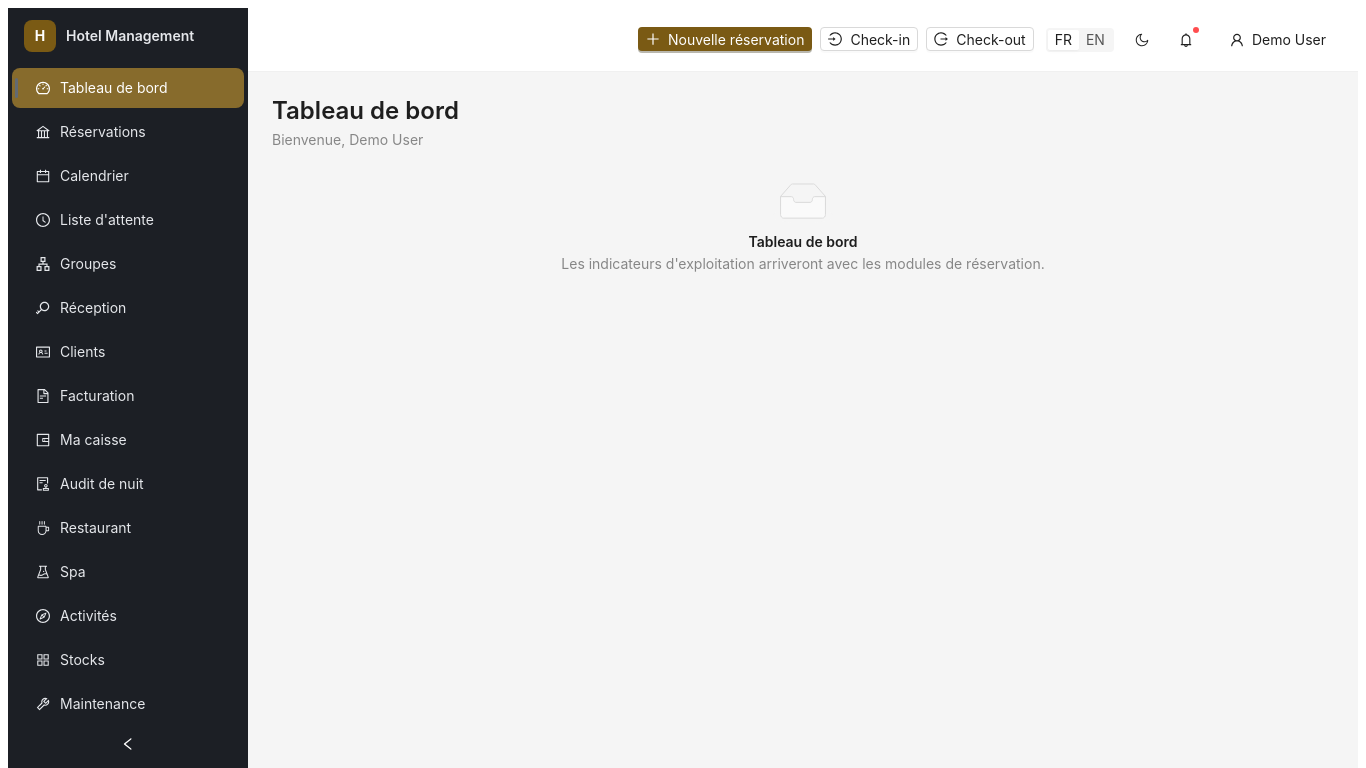
it: client shell › switches language from the header
Click the text "EN". click: (1095, 39)
box: x1=1086 y1=30 x2=1105 y2=48
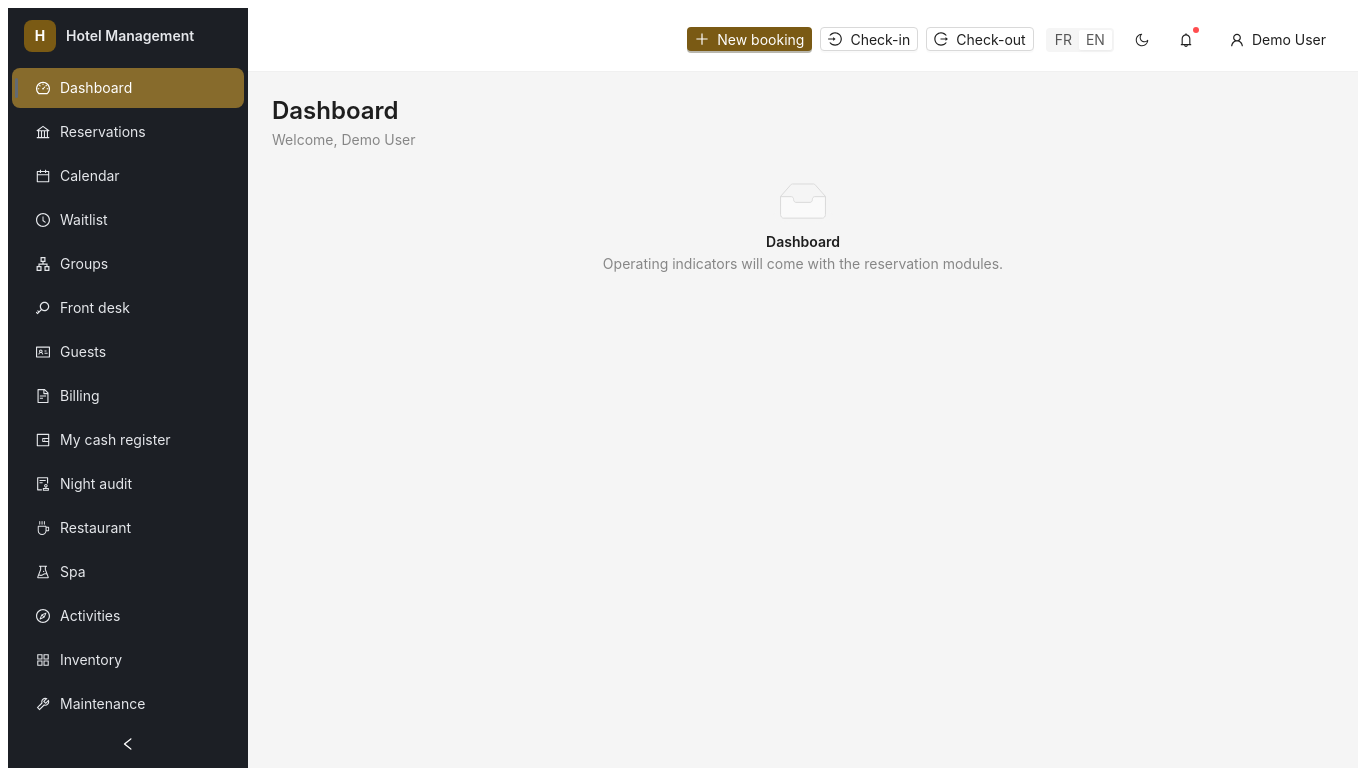
Result: the text "Dashboard" below "Hotel Management" is shown at x1=60 y1=79 x2=132 y2=96
